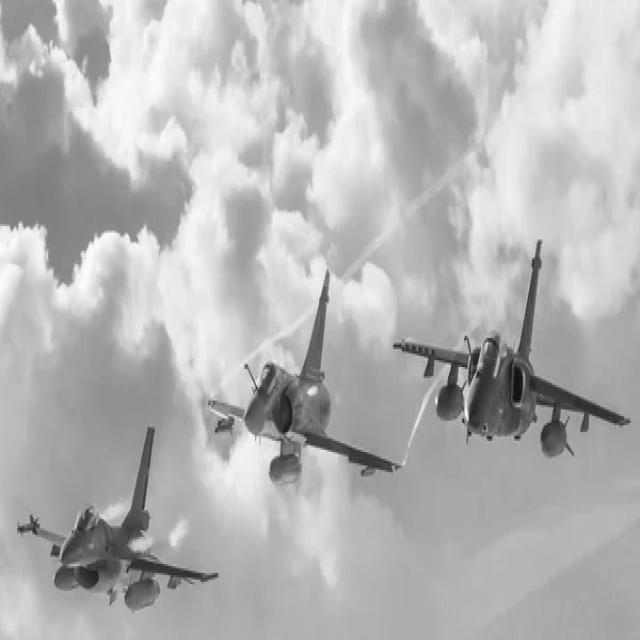Aircraft: (388, 236, 630, 464), (13, 416, 228, 617), (206, 279, 398, 496)
